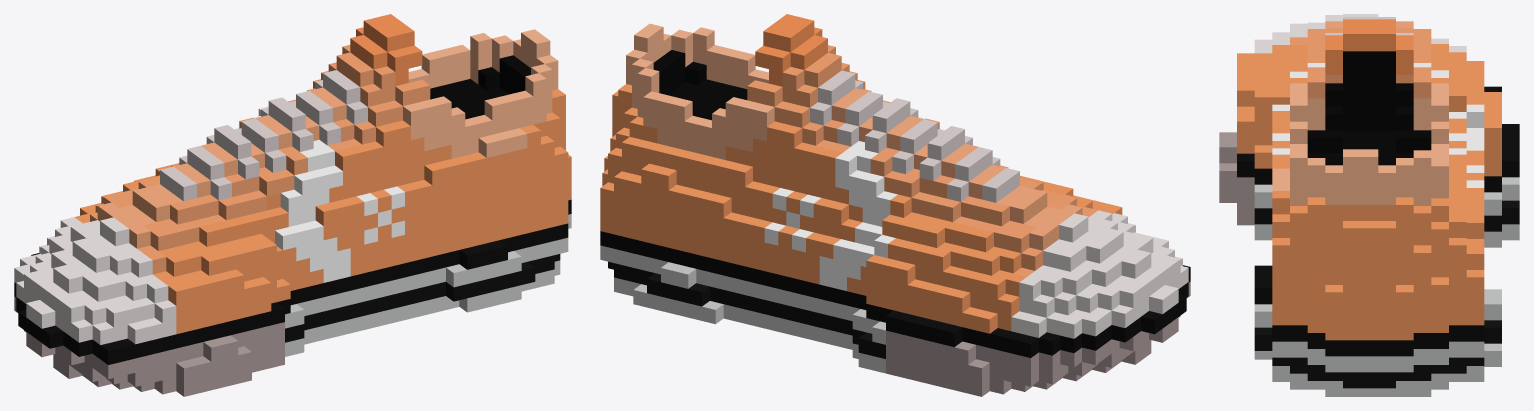
The model's file is Beige Stage.fbx.
3 views of the same model, side by side, from view 1: azimuth 30°, elevation 25°; view 2: azimuth 150°, elevation 25°; view 3: azimuth 270°, elevation 25° (orthographic). The views are drawn at different scales.
Visible parts, largest first — view 1: Untitled; view 2: Untitled; view 3: Untitled.
Part boxes in pixels (box(x1,y1,x2,y2)): Untitled: box(14, 14, 571, 396); Untitled: box(600, 14, 1190, 396); Untitled: box(1219, 14, 1519, 396).
Bounding box in the file's own units: 390 × 180 × 170.
